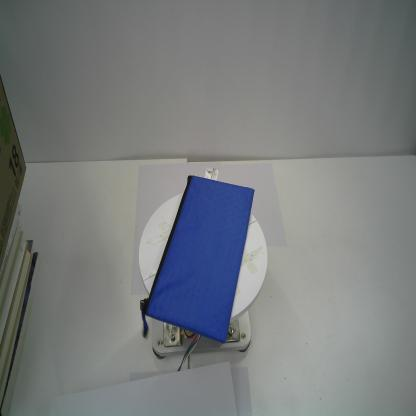Stationery: (140, 174, 256, 342)
